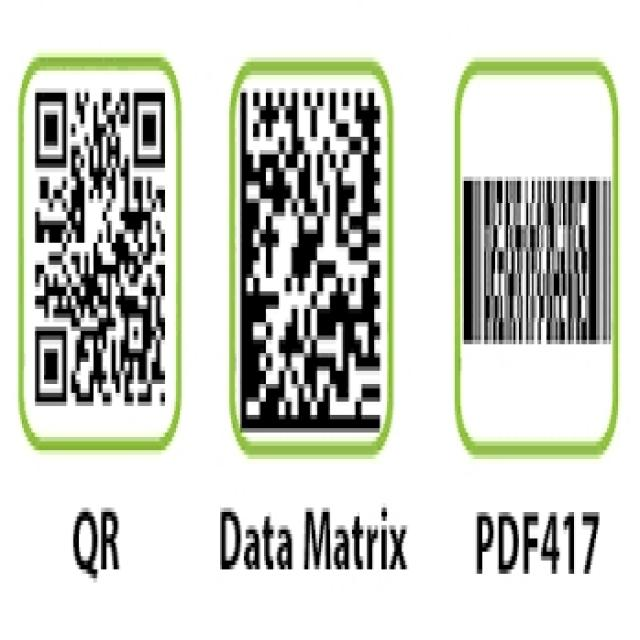datamatrix: (237, 75, 385, 441)
